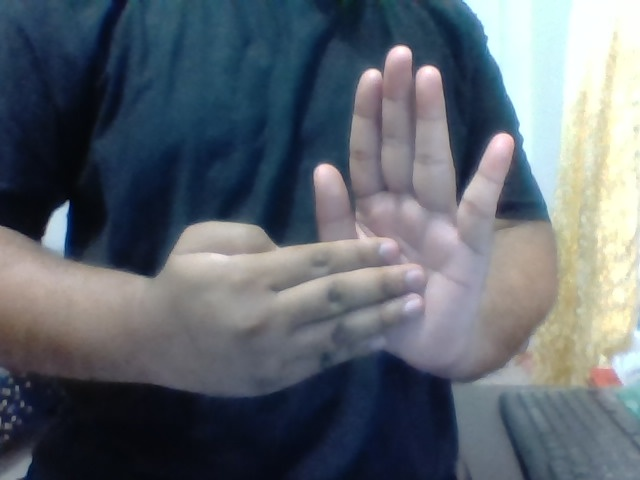H: (142, 43, 521, 386)
